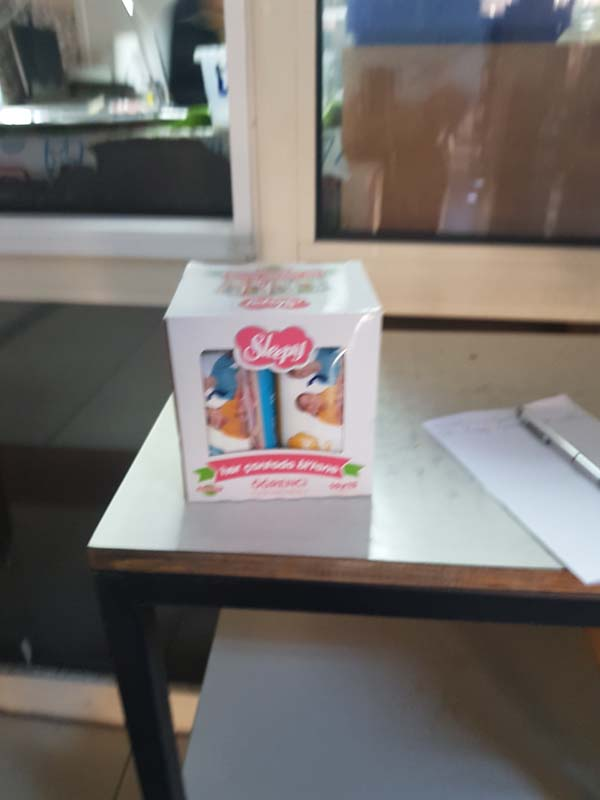sleepyogrencikoli: (155, 252, 394, 507)
